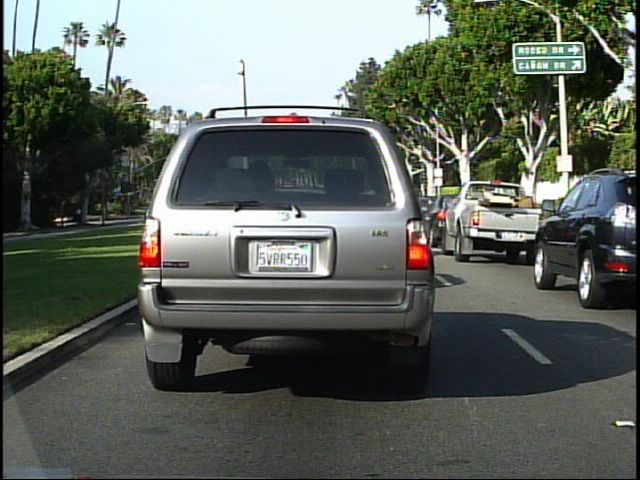car: (134, 115, 456, 380), (533, 174, 638, 302), (447, 179, 538, 255)
